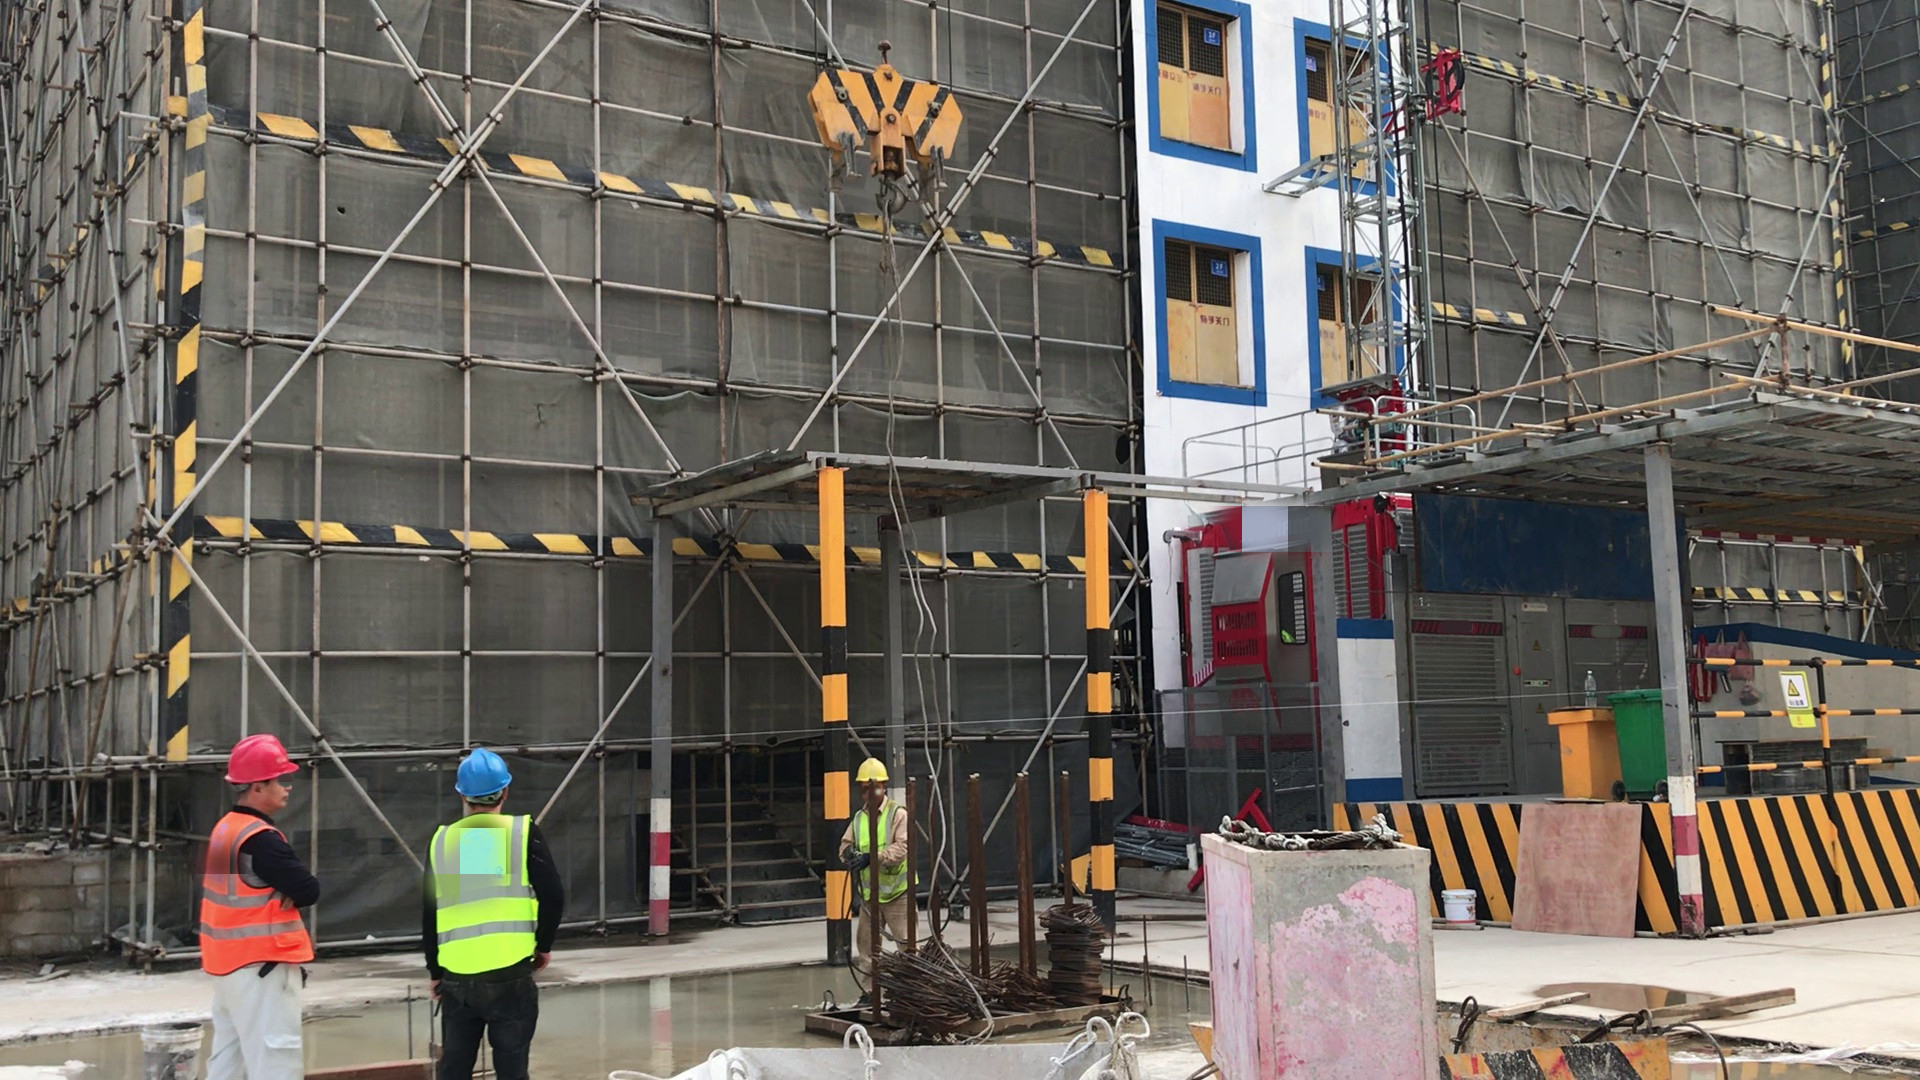helmet: (225, 730, 300, 785), (450, 748, 511, 795), (853, 758, 890, 783)
hook: (812, 60, 972, 217)
hopper: (652, 1034, 1136, 1079)
person: (423, 746, 560, 1080), (201, 728, 326, 1080), (832, 756, 926, 1009)
slogan: (1775, 671, 1818, 731)
vest: (201, 809, 315, 980), (423, 815, 544, 975), (857, 806, 912, 900)
